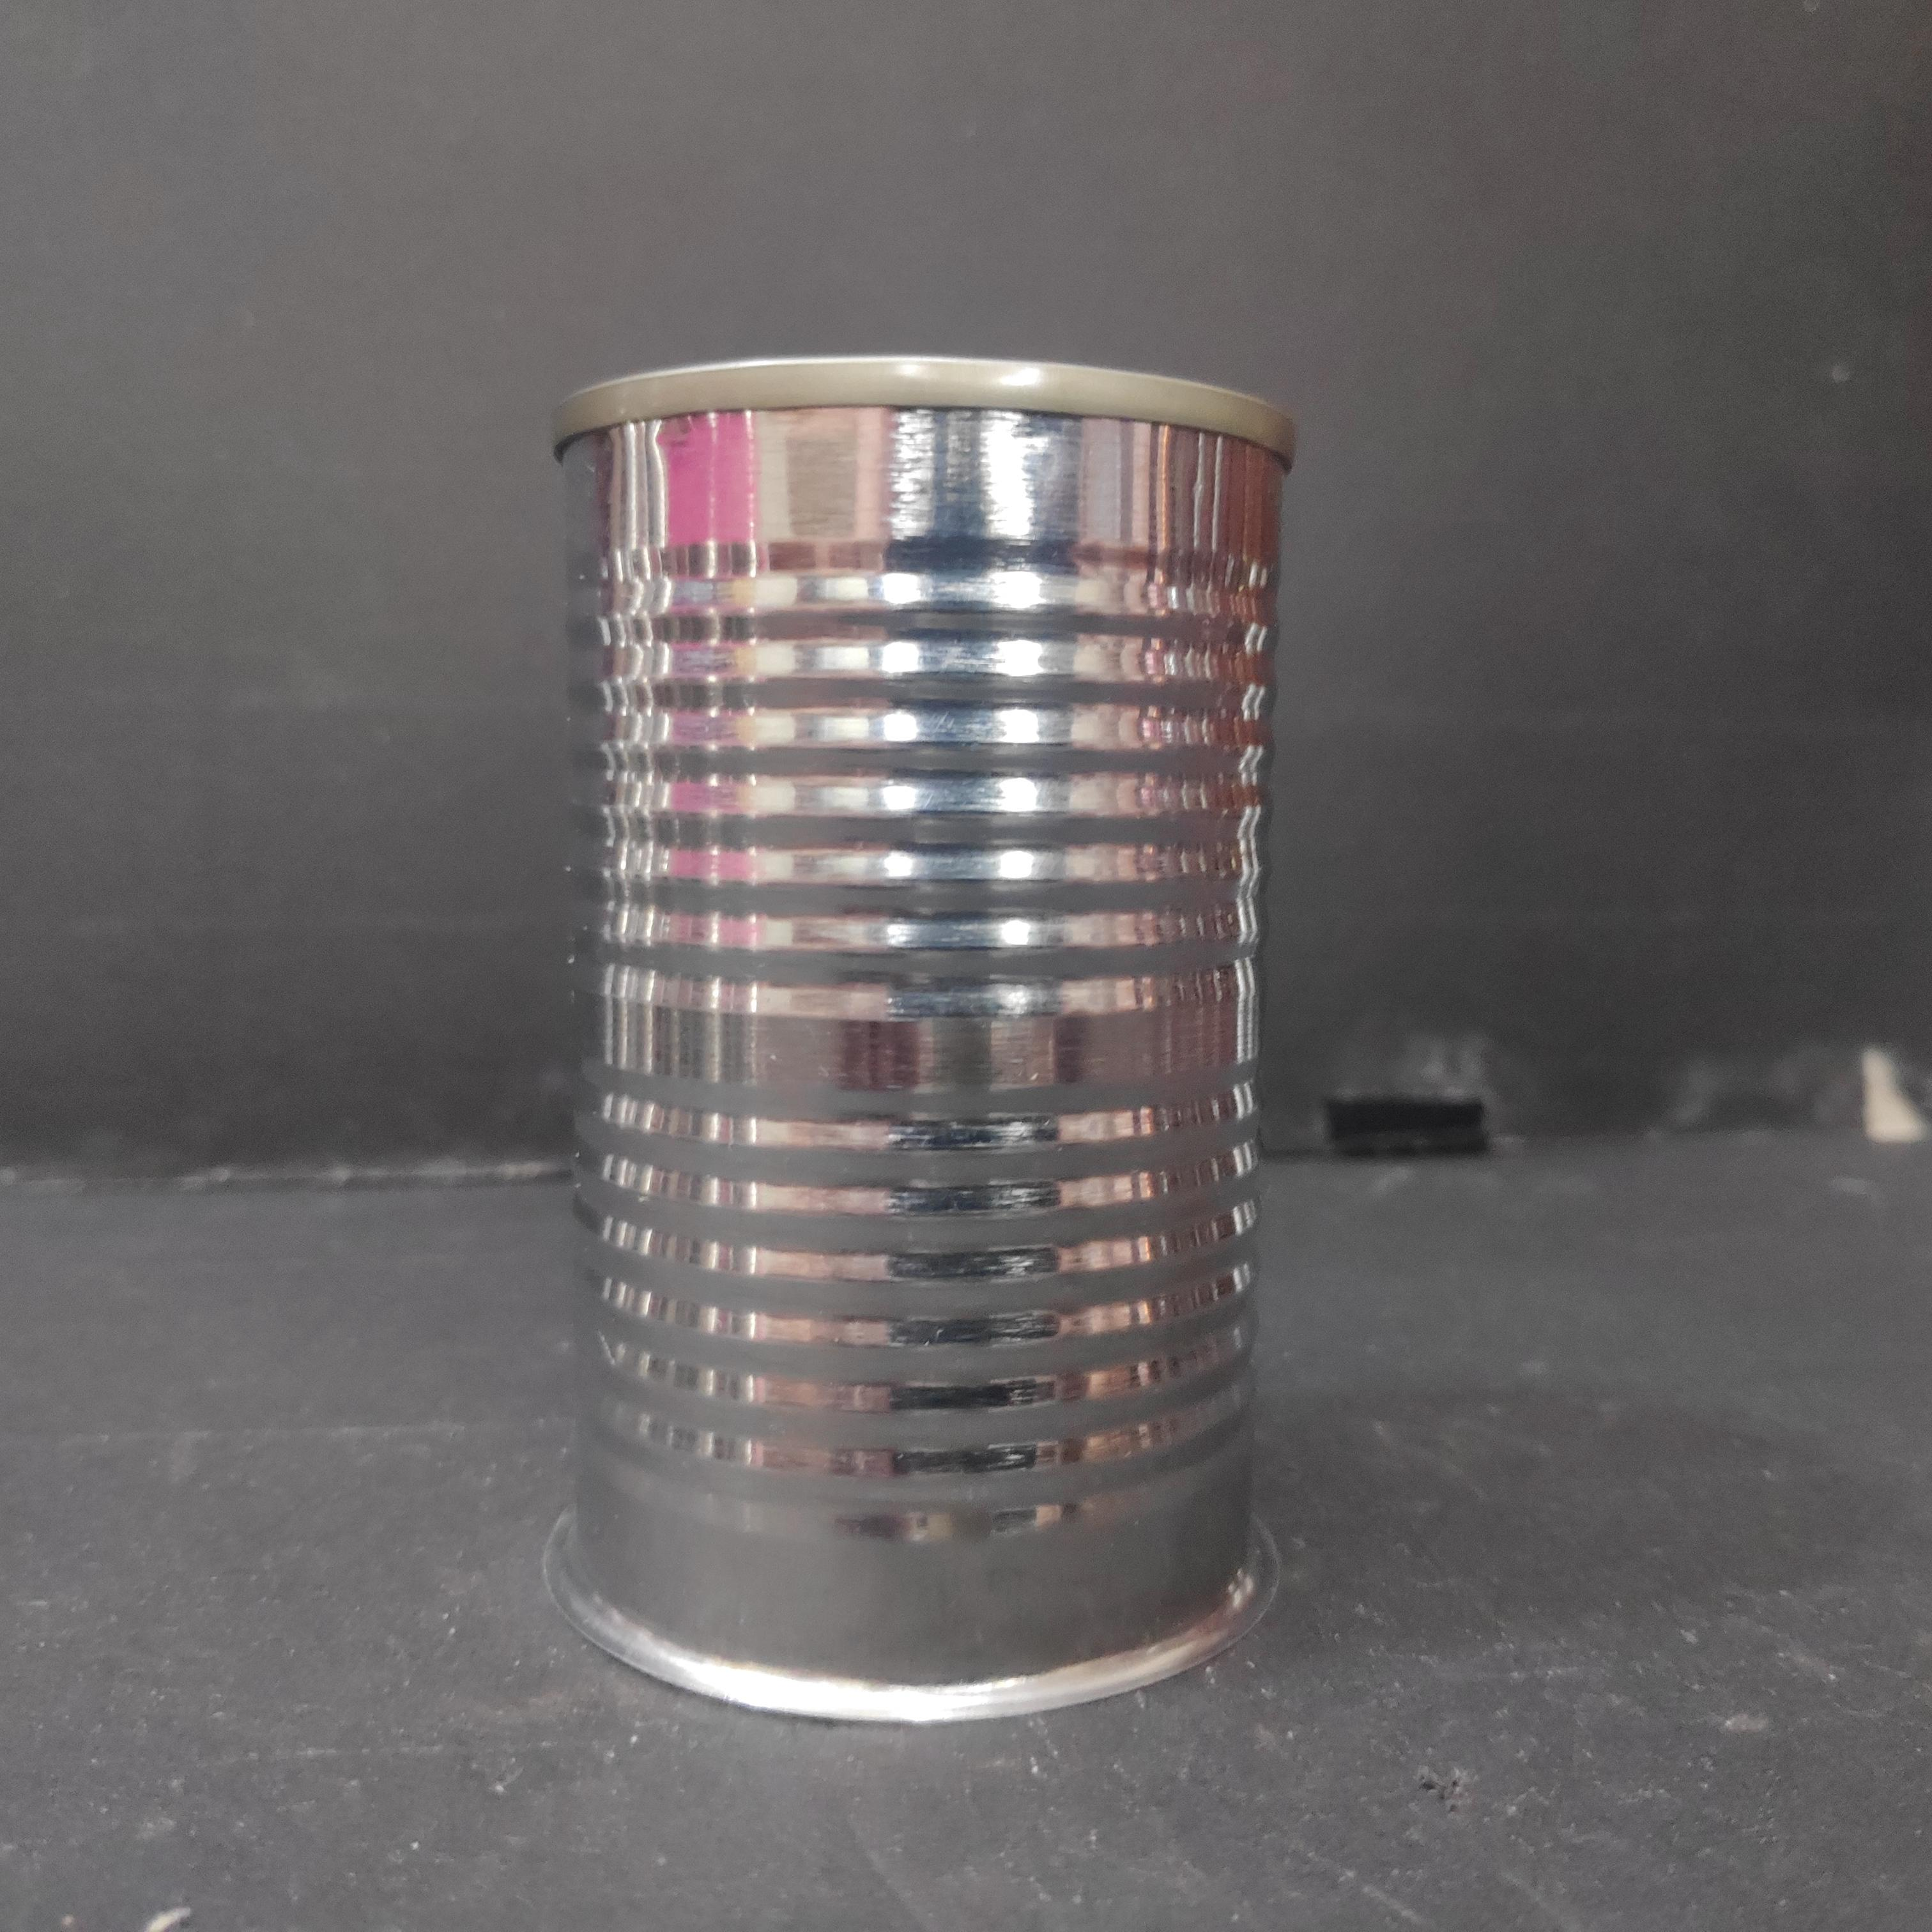No defect: (538, 340, 1307, 1732)
